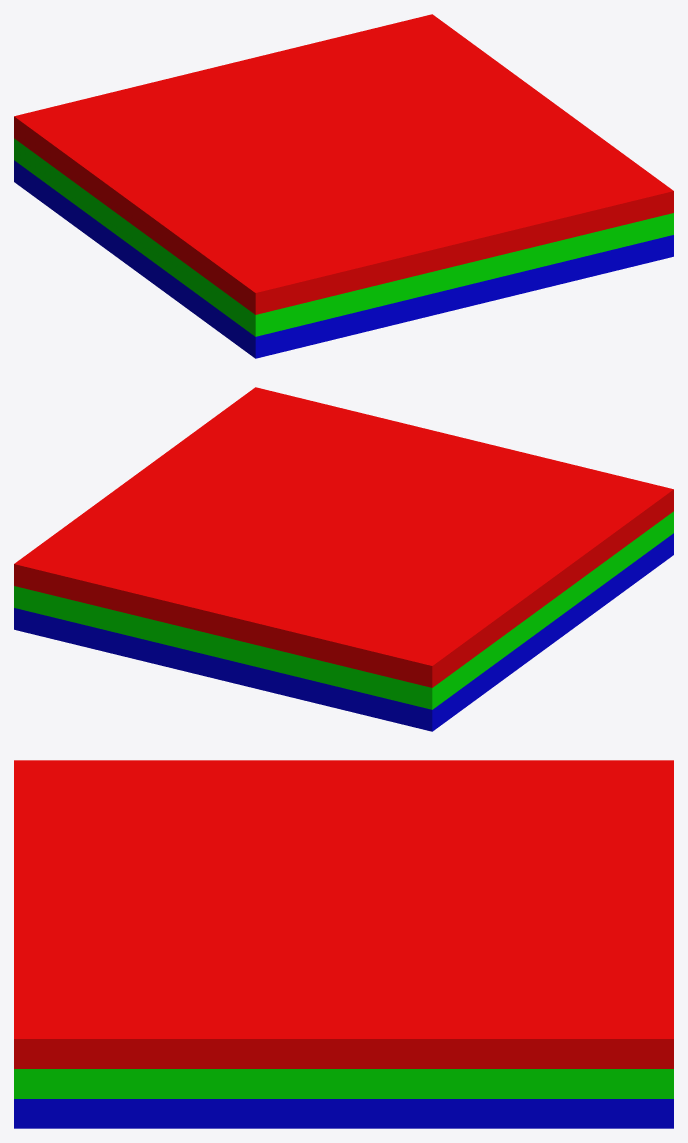
Rendered from board.glb.
3 views of the same model, one above another, from view 1: azimuth 30°, elevation 25°; view 2: azimuth 150°, elevation 25°; view 3: azimuth 270°, elevation 25° (orthographic). The views are drawn at different scales.
Visible parts, largest first — view 1: Substrate_Layer_0_Z0, Substrate_Layer_1_Z0, Substrate_Layer_2_Z0; view 2: Substrate_Layer_0_Z0, Substrate_Layer_1_Z0, Substrate_Layer_2_Z0; view 3: Substrate_Layer_0_Z0, Substrate_Layer_1_Z0, Substrate_Layer_2_Z0.
Boxes of the visible parts, x1=… form: Substrate_Layer_0_Z0: x1=14, y1=14, x2=673, y2=314; Substrate_Layer_1_Z0: x1=14, y1=138, x2=673, y2=336; Substrate_Layer_2_Z0: x1=14, y1=160, x2=673, y2=358; Substrate_Layer_0_Z0: x1=14, y1=387, x2=673, y2=687; Substrate_Layer_1_Z0: x1=14, y1=511, x2=673, y2=709; Substrate_Layer_2_Z0: x1=14, y1=533, x2=673, y2=731; Substrate_Layer_0_Z0: x1=14, y1=760, x2=673, y2=1068; Substrate_Layer_1_Z0: x1=14, y1=1069, x2=673, y2=1098; Substrate_Layer_2_Z0: x1=14, y1=1099, x2=673, y2=1128.
Bounding box in the file's own units: 0.02 × 0.003 × 0.02.
